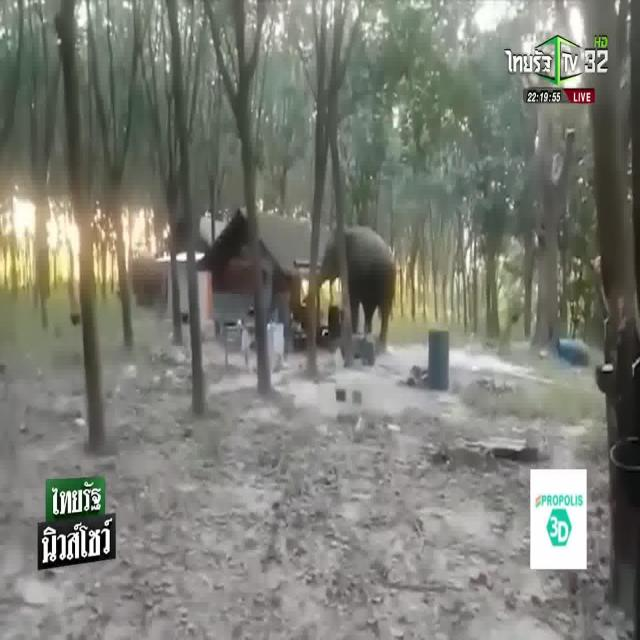Elephant: (318, 210, 398, 325)
